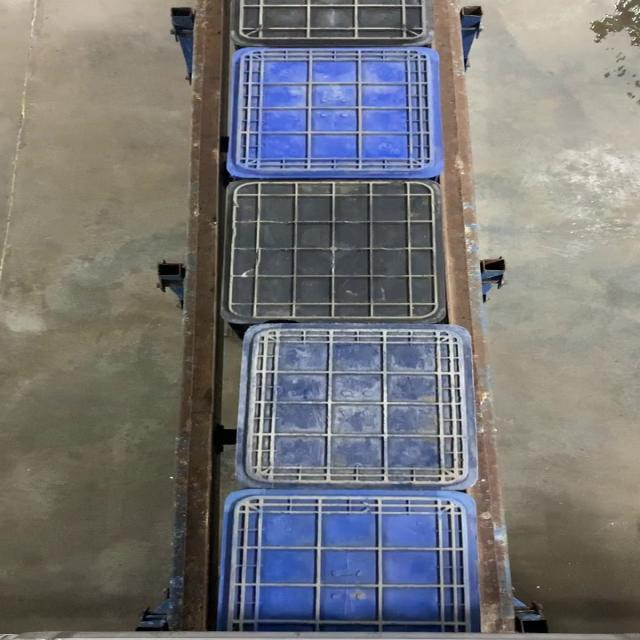Box: (234, 328, 483, 492), (226, 44, 444, 178)
Damaged_box: (216, 179, 453, 325)
